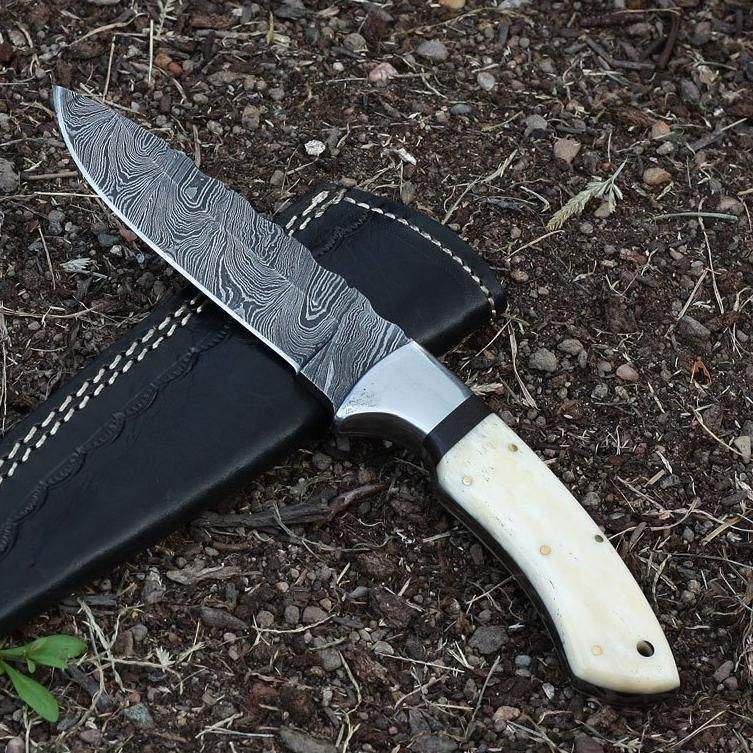knife: (47, 78, 685, 695)
